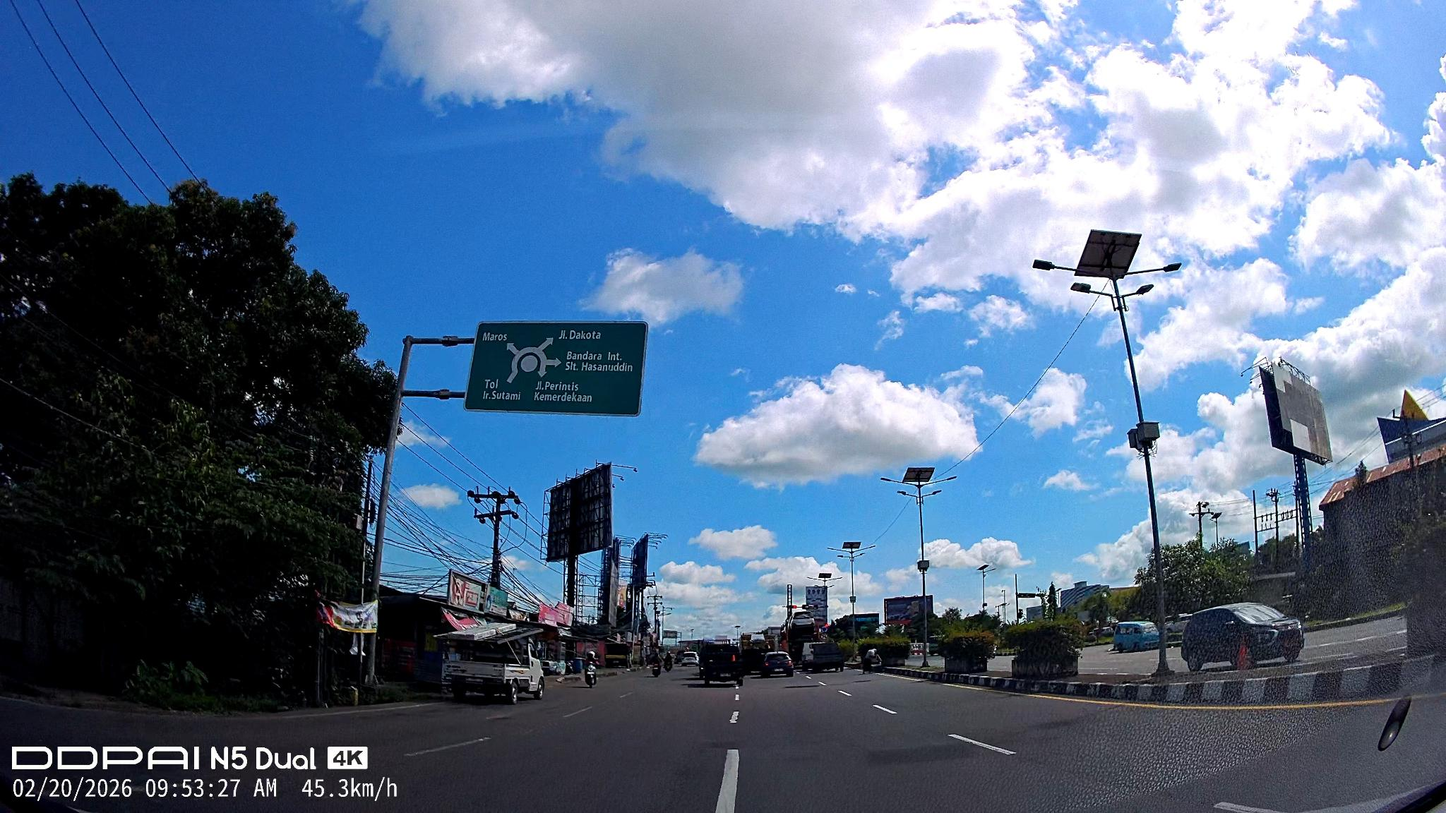rambu_teks: (463, 320, 649, 418)
